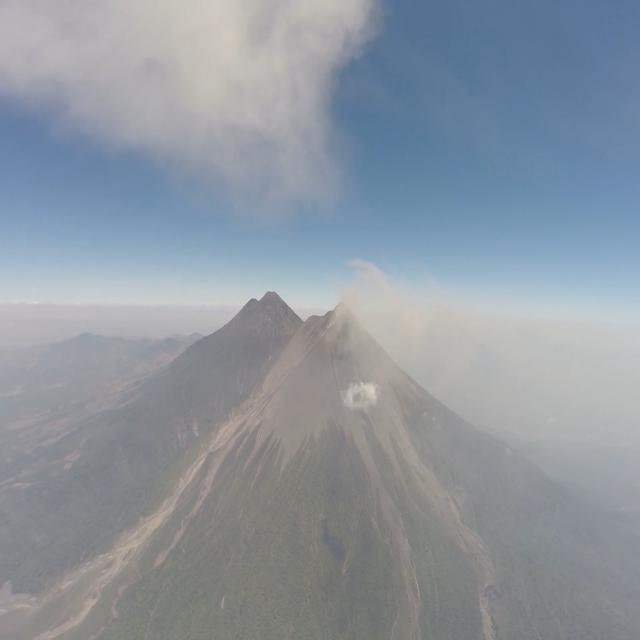Plume: (0, 0, 395, 210), (342, 254, 472, 385)
Summit: (330, 300, 358, 319)
